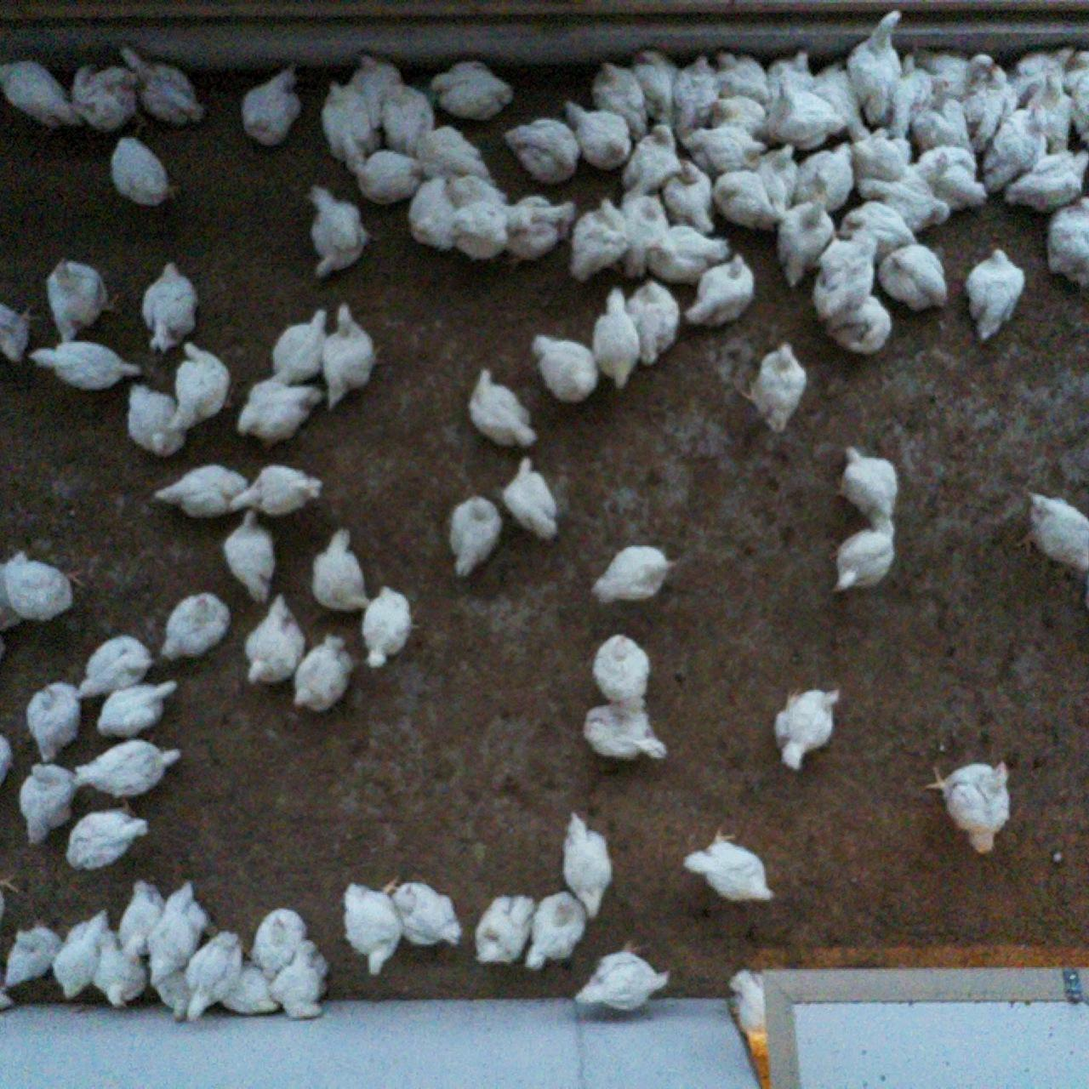chicken: (925, 754, 1015, 859), (571, 934, 671, 1018), (76, 736, 183, 807), (325, 297, 391, 412), (684, 824, 777, 904), (978, 99, 1053, 198), (735, 338, 810, 436), (117, 41, 205, 123), (43, 253, 122, 343), (559, 802, 618, 921), (847, 7, 904, 130), (1012, 487, 1089, 577), (304, 183, 374, 282), (153, 459, 253, 528), (63, 798, 151, 876), (29, 339, 147, 397), (464, 365, 540, 455), (338, 878, 404, 981), (165, 340, 236, 435), (770, 682, 844, 773), (239, 591, 308, 688), (149, 878, 210, 987), (138, 258, 204, 355), (495, 190, 576, 269), (383, 877, 466, 953), (221, 506, 284, 606), (233, 374, 324, 443), (52, 908, 116, 1005), (4, 550, 89, 623), (521, 888, 592, 975), (186, 928, 249, 1025), (964, 245, 1029, 338), (227, 459, 326, 520), (589, 543, 680, 609), (681, 252, 756, 332), (317, 78, 379, 174), (832, 441, 901, 527), (355, 583, 424, 669), (0, 55, 81, 128), (308, 525, 375, 613), (582, 702, 675, 765), (290, 633, 358, 719), (590, 287, 646, 391), (564, 193, 627, 285), (157, 590, 235, 664), (825, 519, 897, 598), (93, 679, 181, 743), (774, 196, 836, 286), (18, 762, 78, 855), (108, 133, 180, 210), (77, 630, 155, 701), (812, 227, 869, 324), (877, 244, 954, 315), (503, 113, 580, 184), (1005, 144, 1089, 209), (429, 57, 513, 122), (472, 891, 540, 971), (268, 939, 332, 1024), (529, 332, 603, 405), (68, 56, 140, 131), (839, 196, 917, 265), (591, 630, 653, 716), (239, 63, 303, 146), (446, 491, 504, 582), (590, 58, 652, 142), (123, 380, 188, 460), (504, 456, 565, 540), (563, 97, 632, 170), (628, 277, 683, 368), (656, 223, 738, 284), (965, 62, 1021, 151), (24, 679, 84, 762), (269, 308, 332, 386), (419, 124, 497, 187), (769, 86, 845, 150), (856, 178, 951, 229), (918, 143, 991, 209), (712, 167, 786, 228), (1043, 194, 1089, 292), (912, 47, 1000, 98), (842, 118, 917, 177), (2, 922, 64, 993), (250, 907, 311, 979), (618, 124, 676, 199), (794, 140, 856, 210), (379, 83, 436, 159), (816, 62, 871, 140), (117, 877, 168, 961), (661, 160, 718, 235), (349, 50, 399, 131), (682, 124, 770, 170), (911, 95, 975, 158), (357, 147, 425, 206), (406, 176, 457, 254), (828, 300, 894, 359), (623, 194, 670, 276), (451, 201, 512, 264), (1030, 73, 1076, 155), (727, 963, 777, 1038), (103, 935, 151, 1013), (673, 52, 718, 134), (634, 46, 681, 124), (891, 52, 932, 129), (712, 47, 769, 101), (223, 964, 280, 1017), (0, 298, 43, 366), (708, 97, 770, 141), (757, 146, 800, 209), (1018, 41, 1080, 81), (445, 170, 507, 206), (767, 48, 816, 90), (154, 968, 189, 1023), (1065, 47, 1089, 97)
